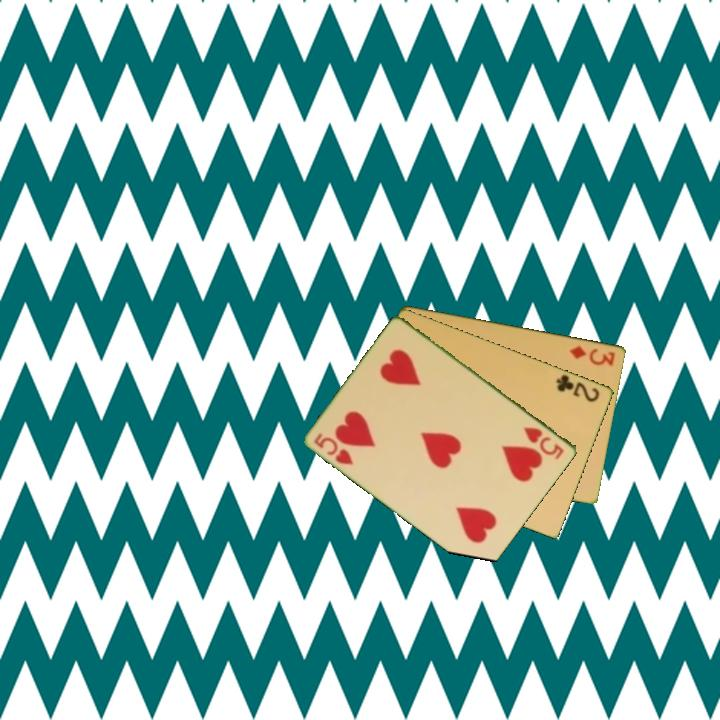2c: (553, 370, 603, 405)
3d: (566, 342, 618, 368)
5h: (521, 423, 567, 462), (311, 429, 357, 468)
